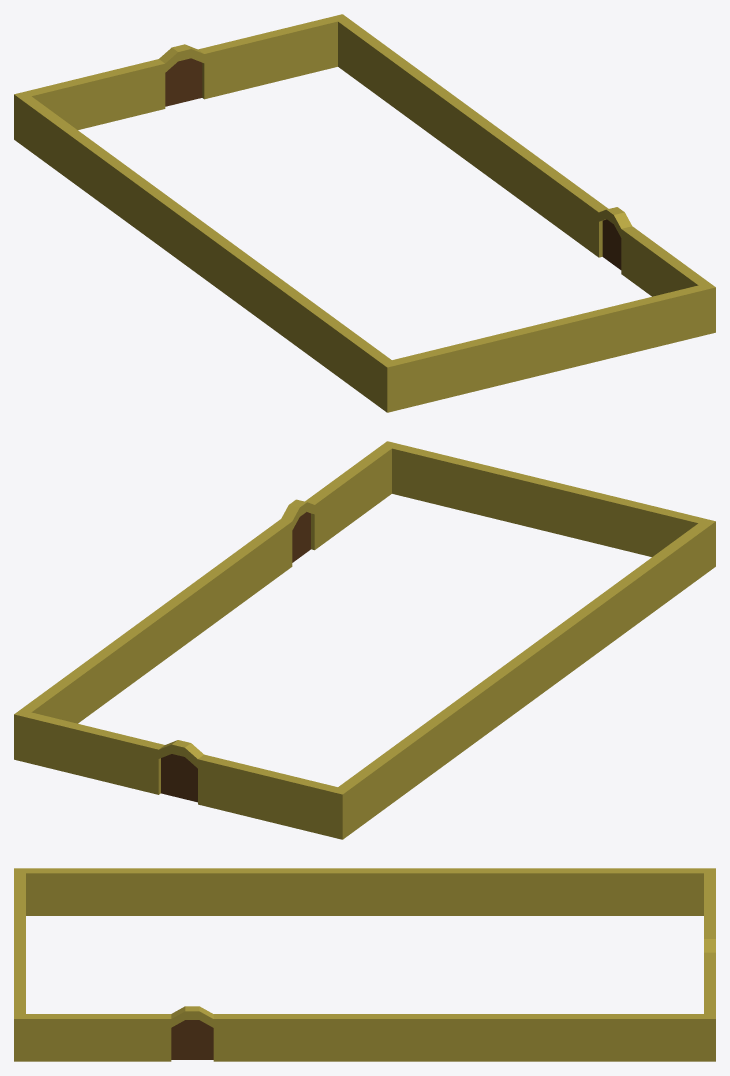
Rendered from Rec_TwoDoorNE.fbx.
The picture shows the model from 3 angles, top to bottom: view 1: azimuth 30°, elevation 25°; view 2: azimuth 150°, elevation 25°; view 3: azimuth 270°, elevation 25°; orthographic projection. The views are drawn at different scales.
Visible parts, largest first — view 1: Walls, N_door, E_door; view 2: Walls, N_door, E_door; view 3: Walls, E_door.
Part boxes in pixels (bbox=[...]): Walls: bbox=[14, 14, 715, 412]; N_door: bbox=[165, 58, 202, 106]; E_door: bbox=[602, 219, 621, 269]; Walls: bbox=[14, 441, 715, 839]; N_door: bbox=[161, 754, 197, 802]; E_door: bbox=[292, 512, 310, 562]; Walls: bbox=[14, 868, 715, 1061]; E_door: bbox=[171, 1020, 213, 1059].
Size of the model in its own units: 3567 by 556 by 7018.
